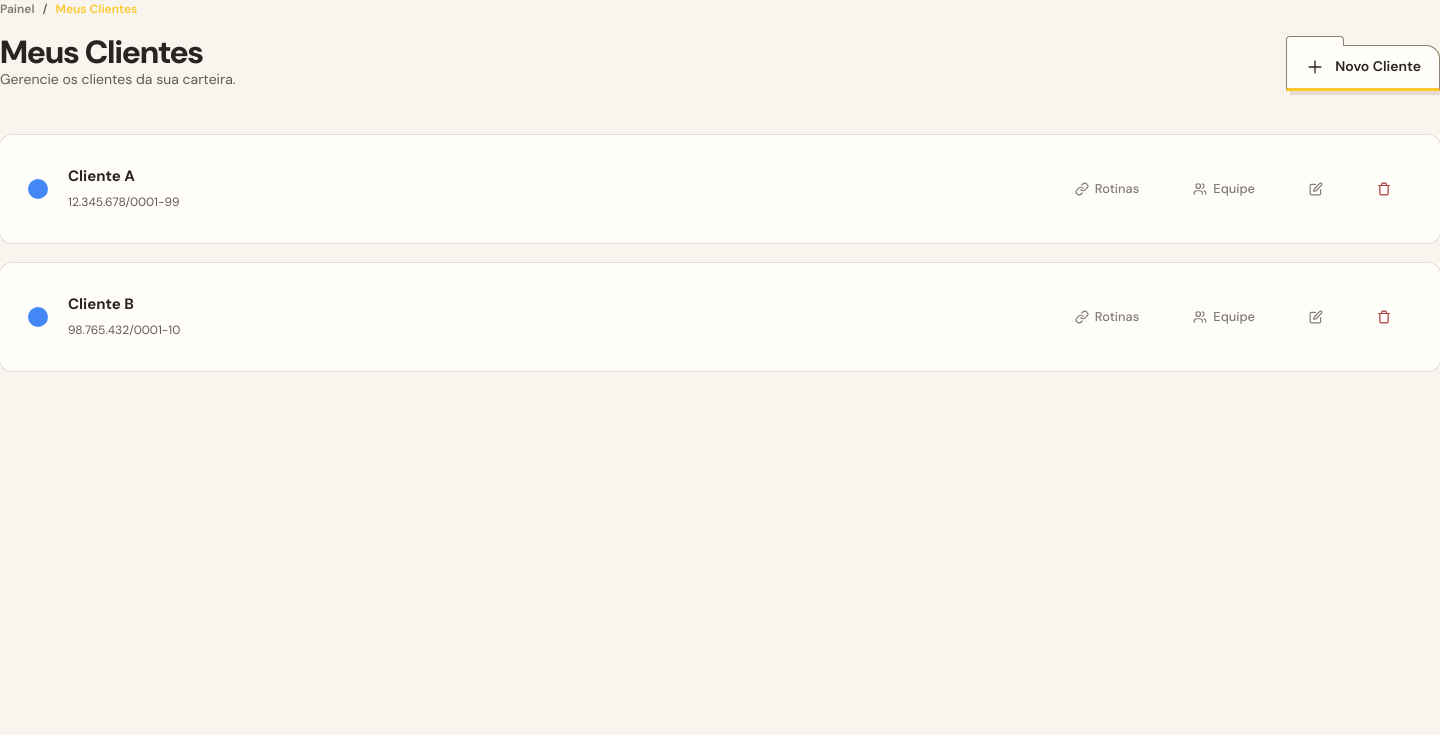
EmpresasPage › autofills company and address data from CNPJ lookup on blur
Click the button "Novo Cliente" at point(1363, 68), box [1286,45,1439,91]
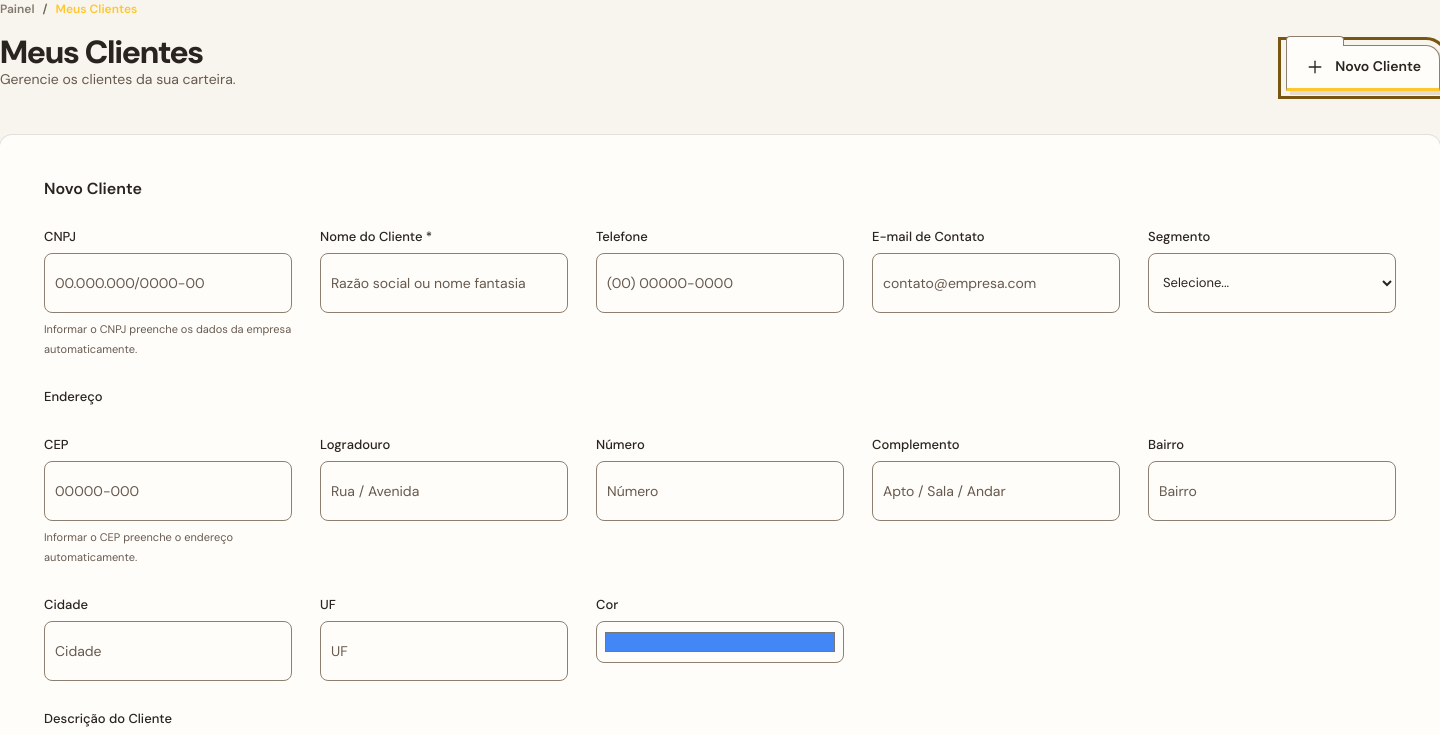
Type "12345678000199" into the field with placeholder "00.000.000/0000-00" at point(168, 283), box [44,253,292,313]
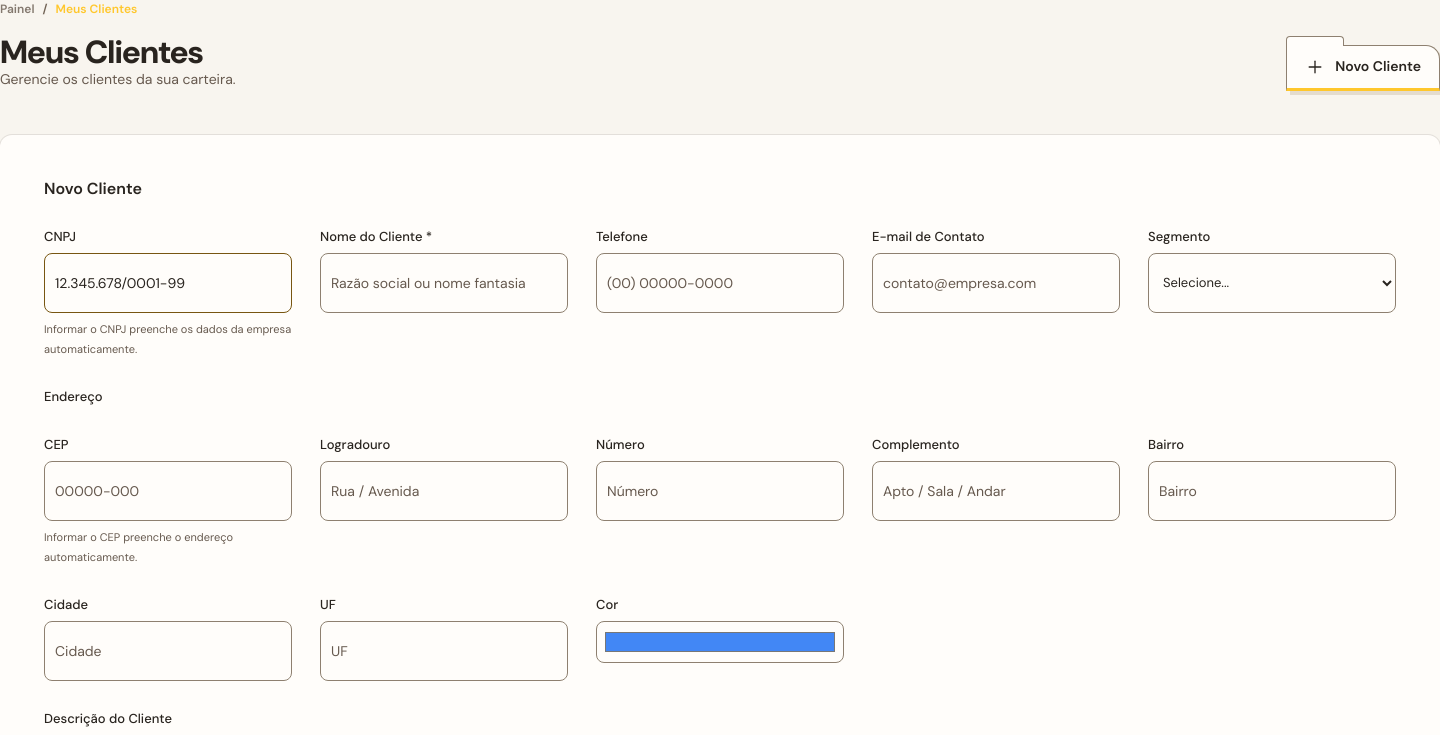
Leave the field with placeholder "00.000.000/0000-00", box [44,253,292,313]
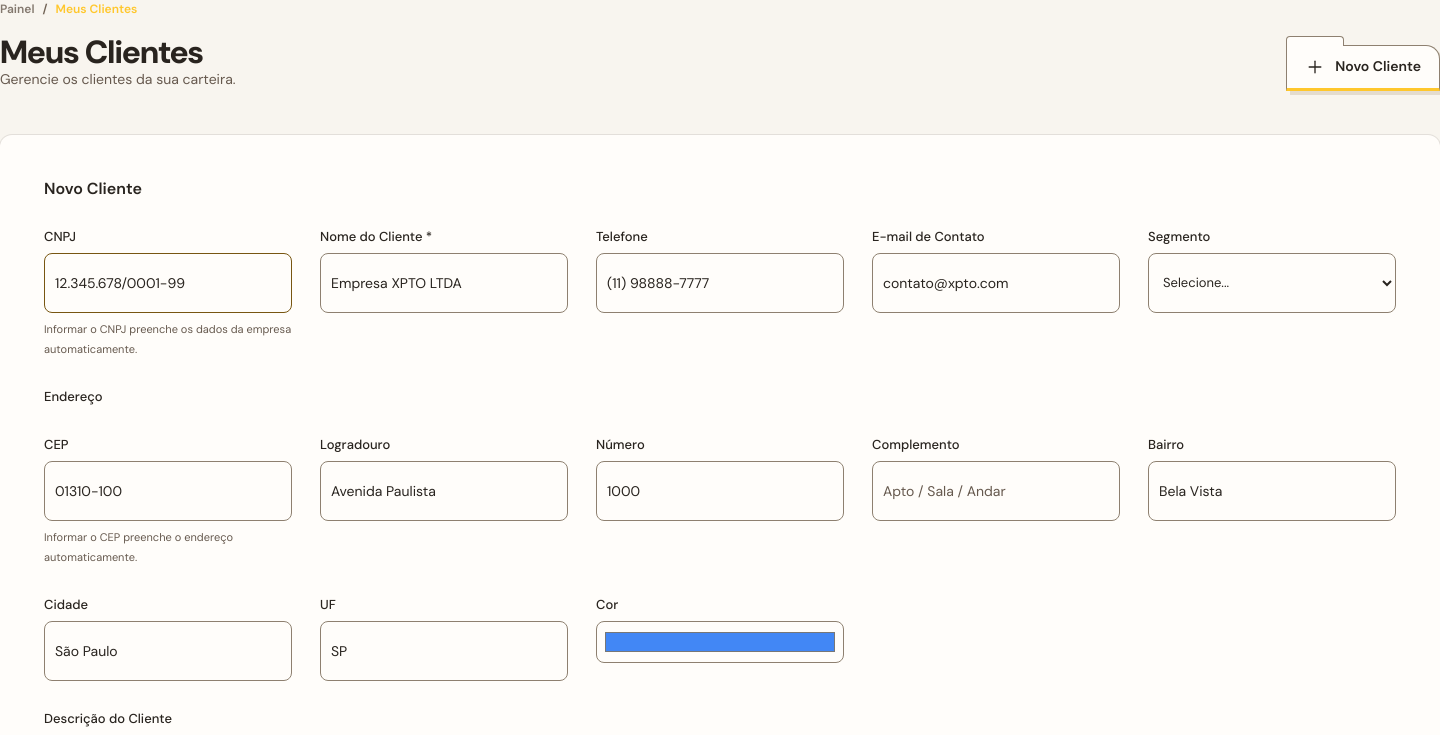
Expected: the field with placeholder "Rua / Avenida" below "Logradouro" holds "Avenida Paulista", [320,461,568,521]
Expected: the field with placeholder "Número" below "Número" holds "1000", [596,461,844,521]
Expected: the field with placeholder "Bairro" below "Bairro" holds "Bela Vista", [1148,461,1396,521]
